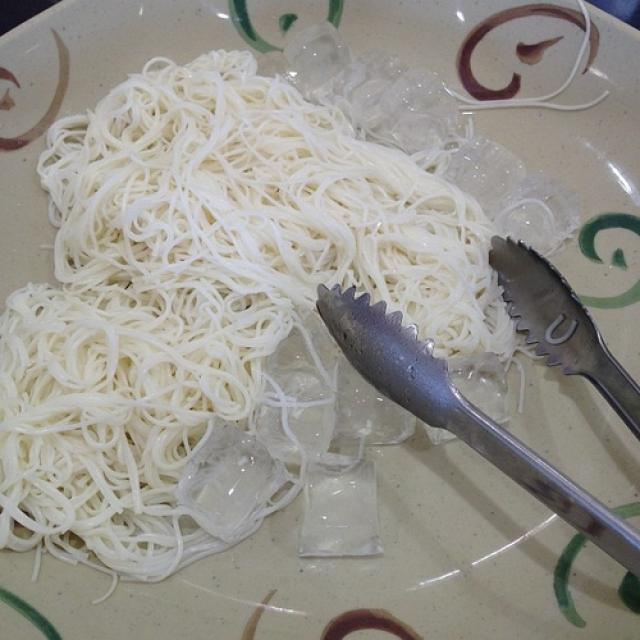面条主食: (8, 12, 612, 616)
